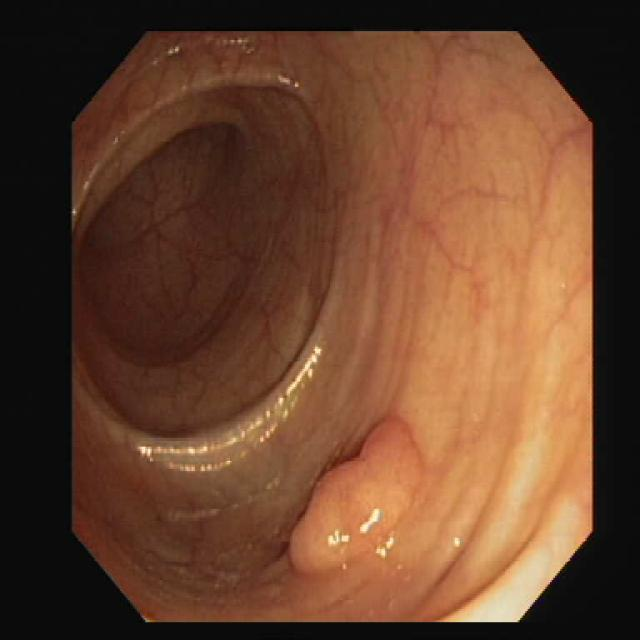tumor: (290, 420, 420, 571)
